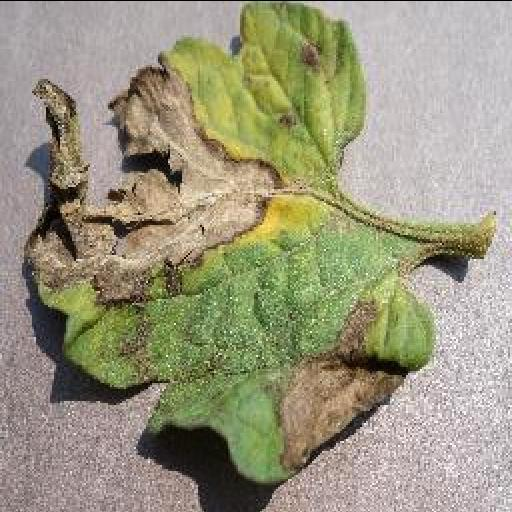disease_tomato: (24, 0, 438, 486)
